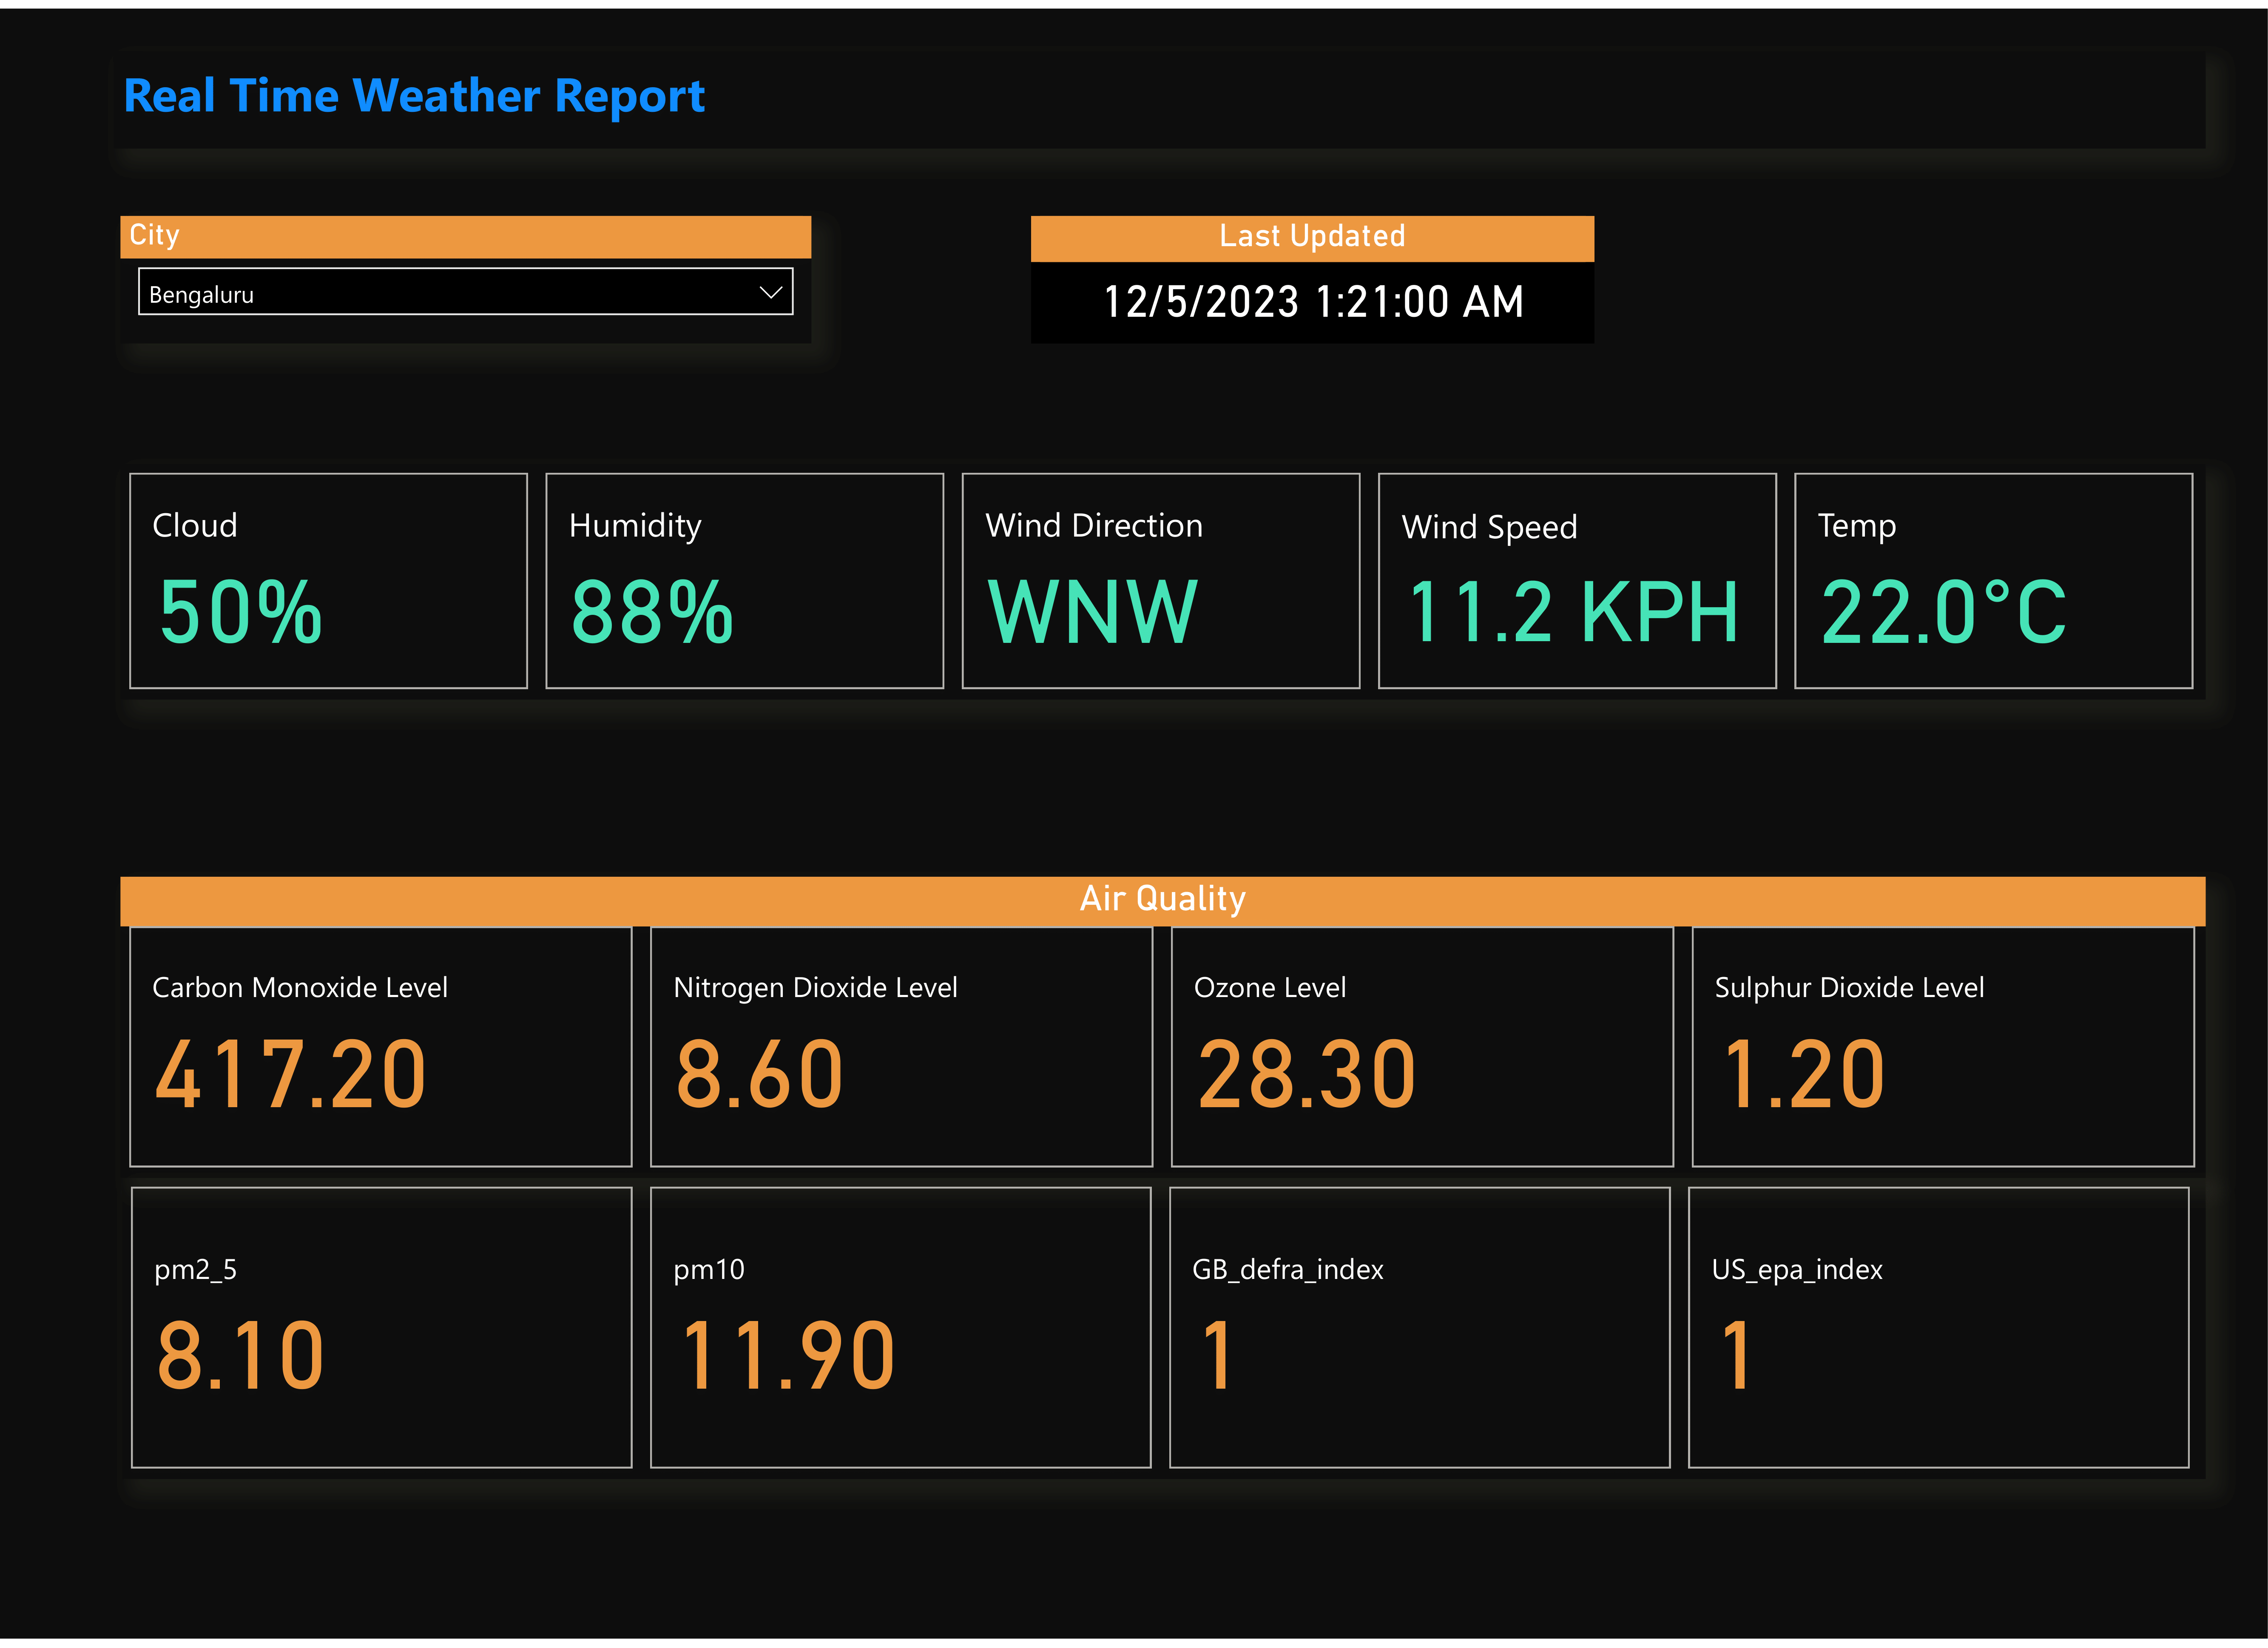

The dashboard page shown, as its layout file describes it:
{"tool":"powerbi","page":{"name":"Weather Dashboard","canvas":[1280,920],"ordinal":0},"visuals":[{"type":"slicer","title":"City","fields":{"Values":["Weather_Data.City"]},"box":[67.8,117.3,390,72.1],"z":0},{"type":"cardVisual","title":"Air Quality","fields":{"Data":["Sum(Weather_Data.co)","Sum(Weather_Data.no2)","Sum(Weather_Data.o3)","Sum(Weather_Data.so2)"]},"box":[67.8,490.4,1177.1,169.6],"z":1000},{"type":"cardVisual","fields":{"Data":["Weather_Data.cloud_format","Weather_Data.Humidity_format","Min(Weather_Data.wind_dir)","Weather_Data.wind_format","Weather_Data.temp_format"]},"box":[67.8,257.2,1177.1,132.8],"z":2000},{"type":"textbox","box":[63.6,24,1181.4,55.1],"z":3000},{"type":"cardVisual","fields":{"Data":["Sum(Weather_Data.pm2_5)","Sum(Weather_Data.pm10)","Sum(Weather_Data.GB_defra_index)","Sum(Weather_Data.US_epa_index)"]},"box":[69.2,659.9,1175.7,169.6],"z":4000},{"type":"card","title":"Last Updated","fields":{"Values":["Min(Weather_Data.localtime)"]},"box":[582.2,117.3,318,72.1],"z":5000}]}

Visuals, with their boxes in screenshot pixels (x1, y1, x2, y2), scaled from the page's 1280x920 canvas onto the 2268x1648 screenshot:
"City" slicer: (left=120, top=210, right=811, bottom=339)
"Air Quality" cardVisual: (left=120, top=878, right=2206, bottom=1182)
cardVisual - Weather_Data.cloud_format x Weather_Data.Humidity_format: (left=120, top=461, right=2206, bottom=699)
textbox: (left=113, top=43, right=2206, bottom=142)
cardVisual - Sum(Weather_Data.pm2_5) x Sum(Weather_Data.pm10): (left=122, top=1182, right=2206, bottom=1486)
"Last Updated" card: (left=1032, top=210, right=1595, bottom=339)
